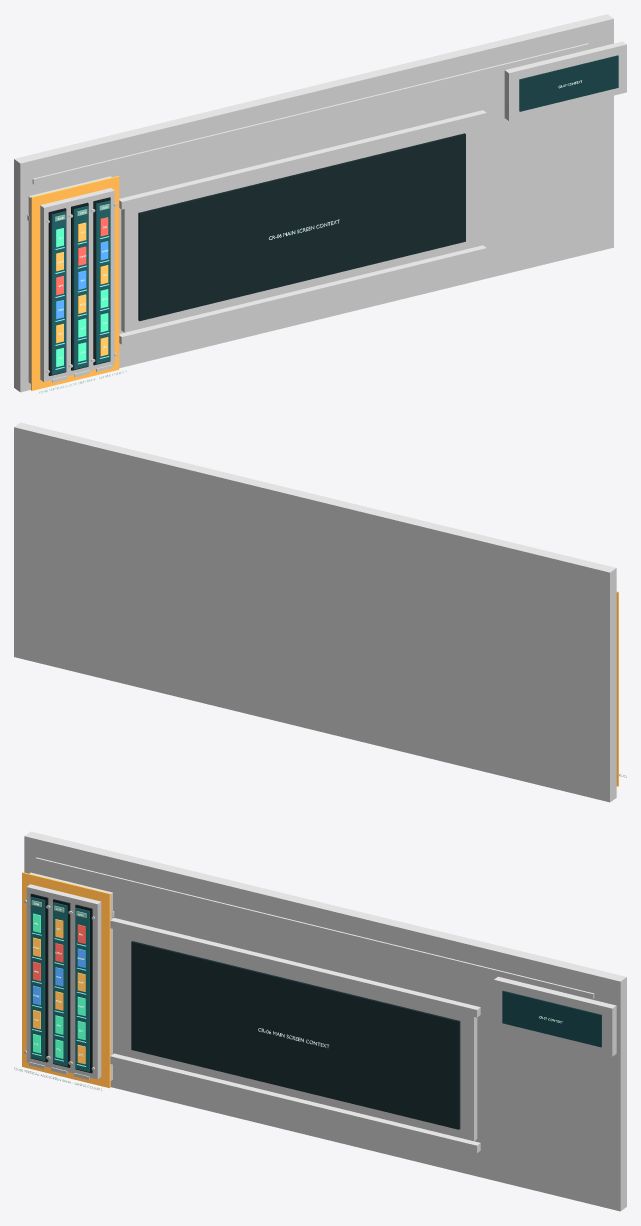
File: control_room_vertical_aux_screens.glb
3 renders of one model, top to bottom at view 1: azimuth 30°, elevation 25°; view 2: azimuth 150°, elevation 25°; view 3: azimuth 330°, elevation 25°, orthographic.
Parts seen in each view (by area): view 1: control room future screen wall context panel, CR-06 large main screen dark inactive surface, CR-06 large main screen reference mount, main screen lower service sill reference, main screen upper structural lintel reference, CR-08 left side vertical screen reserved placement outline, upper control room wall conduit continuing behind CR-08 and , CR-07 context dark horizontal display, CR-07 context reserved horizontal auxiliary frame, CR-08 panel 1 vertical armored frame, CR-08 panel 3 vertical armored frame, CR-08 panel 2 inactive vertical display surface (+7 smaller); view 2: control room future screen wall context panel, CR-08 left side vertical screen reserved placement outline; view 3: control room future screen wall context panel, CR-06 large main screen dark inactive surface, CR-06 large main screen reference mount, main screen upper structural lintel reference, main screen lower service sill reference, CR-08 left side vertical screen reserved placement outline, upper control room wall conduit continuing behind CR-08 and , CR-07 context reserved horizontal auxiliary frame, CR-07 context dark horizontal display, CR-08 panel 3 vertical armored frame, CR-08 panel 1 vertical armored frame, CR-08 panel 1 inactive vertical display surface (+7 smaller).
Part boxes in pixels (box(x1,y1,x2,y2)): control room future screen wall context panel: box(14, 14, 613, 392); CR-06 large main screen dark inactive surface: box(138, 133, 465, 321); CR-06 large main screen reference mount: box(121, 123, 474, 332); main screen lower service sill reference: box(119, 245, 486, 344); main screen upper structural lintel reference: box(119, 110, 486, 209); CR-08 left side vertical screen reserved placement outline: box(31, 176, 119, 390); upper control room wall conduit continuing behind CR-08 and : box(32, 43, 588, 184); CR-07 context dark horizontal display: box(519, 55, 618, 111); CR-07 context reserved horizontal auxiliary frame: box(504, 41, 626, 120); CR-08 panel 1 vertical armored frame: box(40, 199, 70, 381); CR-08 panel 3 vertical armored frame: box(85, 188, 114, 370); CR-08 panel 2 inactive vertical display surface: box(73, 206, 88, 369); control room future screen wall context panel: box(14, 422, 616, 802); CR-08 left side vertical screen reserved placement outline: box(616, 591, 618, 786); control room future screen wall context panel: box(24, 831, 626, 1211); CR-06 large main screen dark inactive surface: box(131, 941, 460, 1129); CR-06 large main screen reference mount: box(122, 931, 477, 1140); main screen upper structural lintel reference: box(110, 918, 480, 1017); main screen lower service sill reference: box(110, 1053, 480, 1153); CR-08 left side vertical screen reserved placement outline: box(22, 872, 110, 1088); upper control room wall conduit continuing behind CR-08 and : box(35, 857, 594, 999); CR-07 context reserved horizontal auxiliary frame: box(493, 976, 616, 1056); CR-07 context dark horizontal display: box(502, 990, 601, 1047); CR-08 panel 3 vertical armored frame: box(71, 895, 101, 1079); CR-08 panel 1 vertical armored frame: box(26, 884, 56, 1067); CR-08 panel 1 inactive vertical display surface: box(30, 897, 45, 1061).
Bounding box in the file's own units: 8.59 × 3.15 × 0.525.
